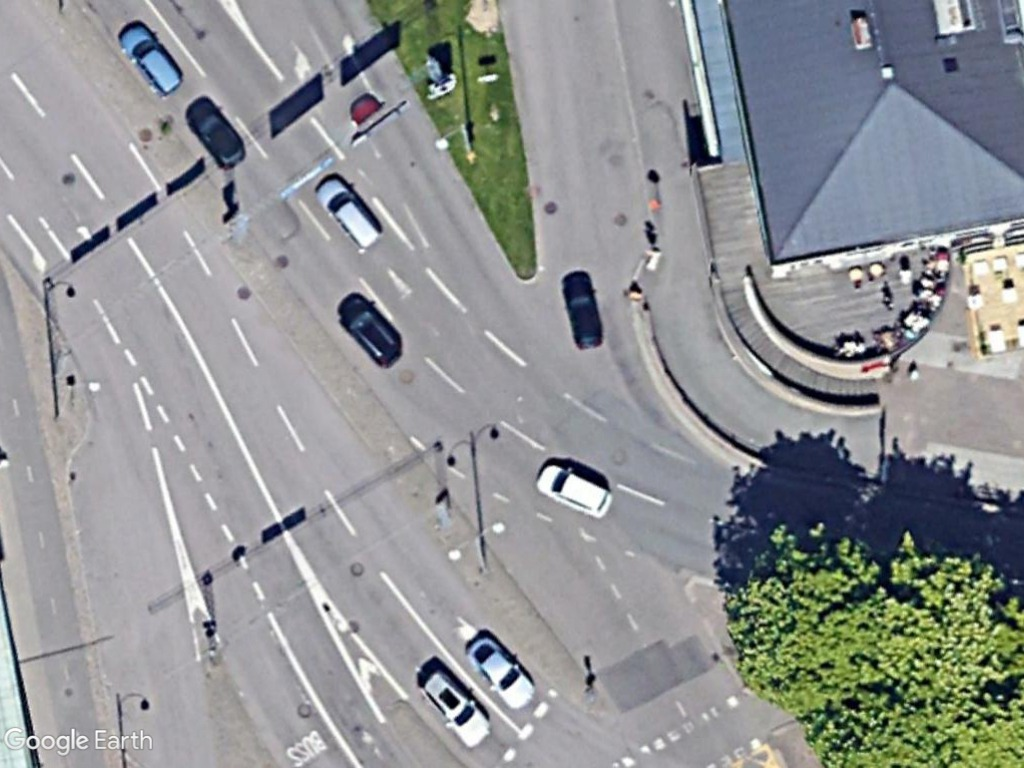car: (415, 661, 499, 756), (461, 631, 542, 713), (311, 173, 387, 257), (114, 17, 186, 101), (334, 293, 410, 372), (534, 455, 618, 522), (185, 88, 246, 170), (559, 269, 609, 356)
